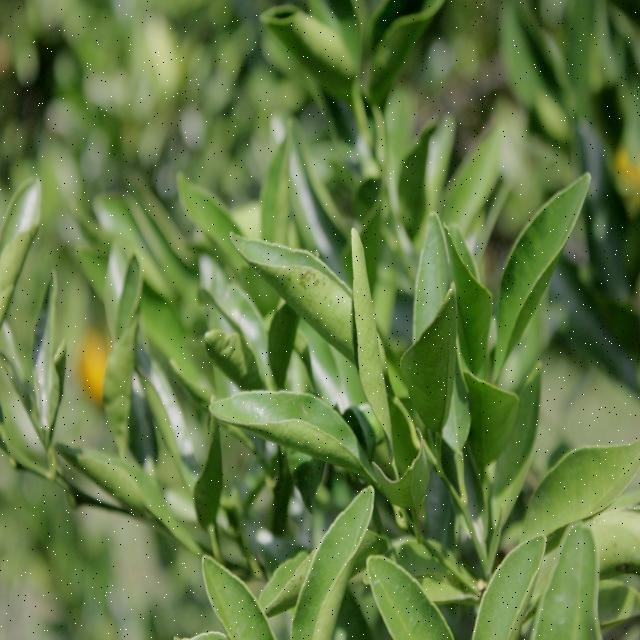melanose: (253, 234, 352, 348)
